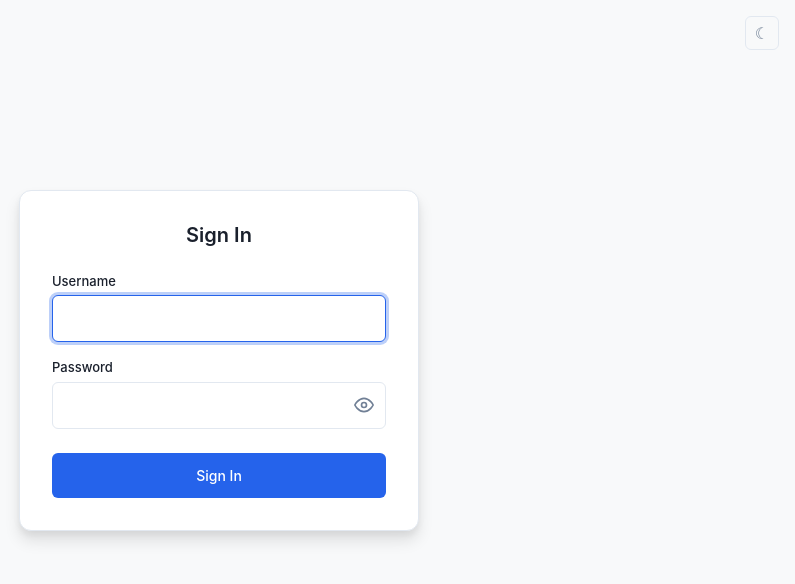
Scenario: LoginForm › shows a generic message for a non-Error rejection
In the field labelled "Username": (219, 318) [52,295,386,342], type "a"
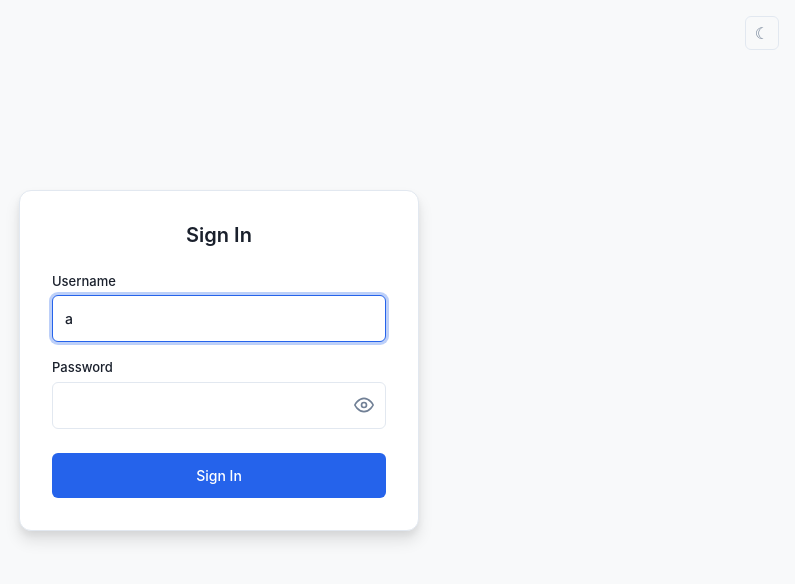
In the password field labelled "Password": (219, 405) [52,382,386,428], type "b"
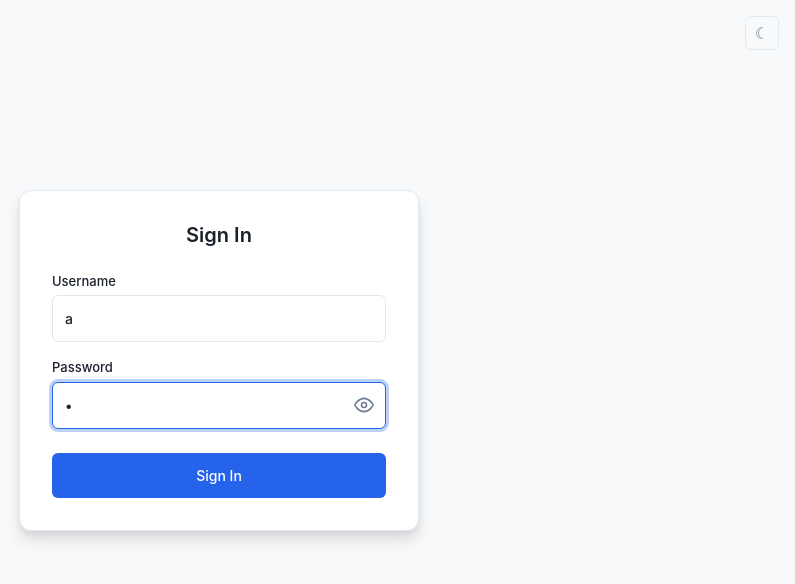
Click the button "Sign In": click(219, 475) [52,452,386,498]
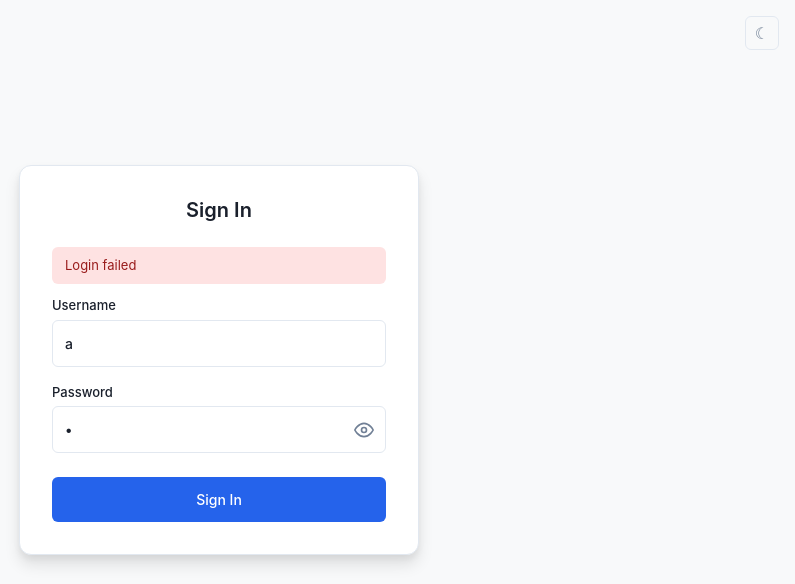
Check: the message reads "Login failed", box [65,257,136,273]
